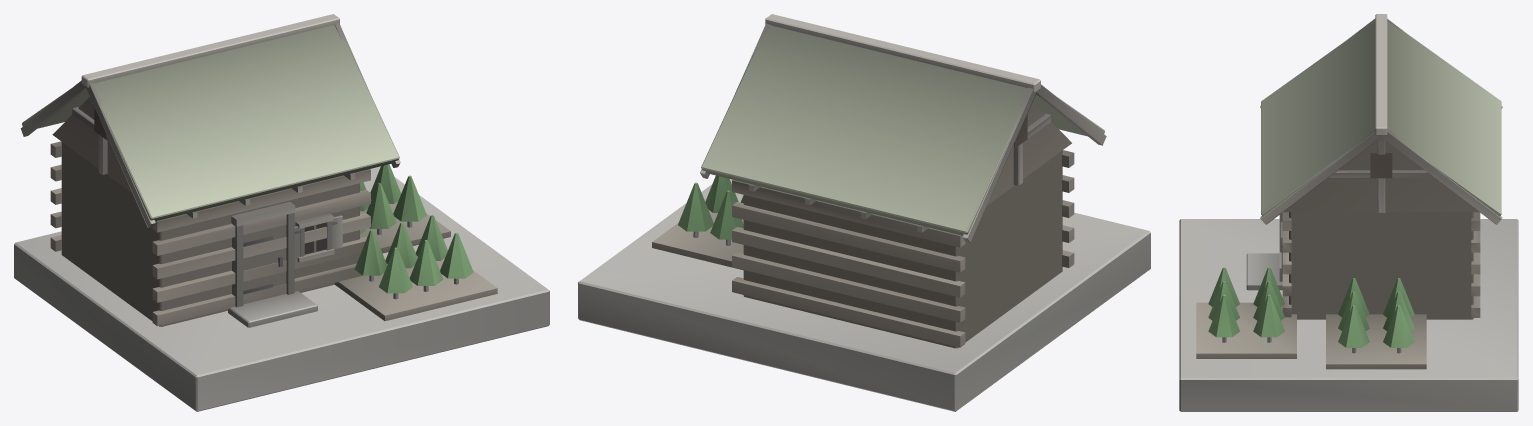
File: forester_l1_lod0.glb
3 views of the same model, side by side, from view 1: azimuth 30°, elevation 25°; view 2: azimuth 150°, elevation 25°; view 3: azimuth 270°, elevation 25° (orthographic). The views are drawn at different scales.
Visible parts, largest first — view 1: forester_l1_lod0; view 2: forester_l1_lod0; view 3: forester_l1_lod0.
Part boxes in pixels (left/top/right/bottom): forester_l1_lod0: left=14, top=14, right=549, bottom=411; forester_l1_lod0: left=578, top=14, right=1150, bottom=411; forester_l1_lod0: left=1179, top=14, right=1518, bottom=411.
Size of the model in its own units: 7.66 by 5.25 by 6.8.
